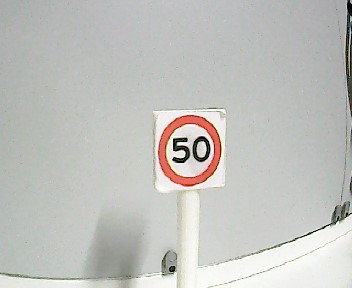50-bord: (158, 113, 220, 188)
